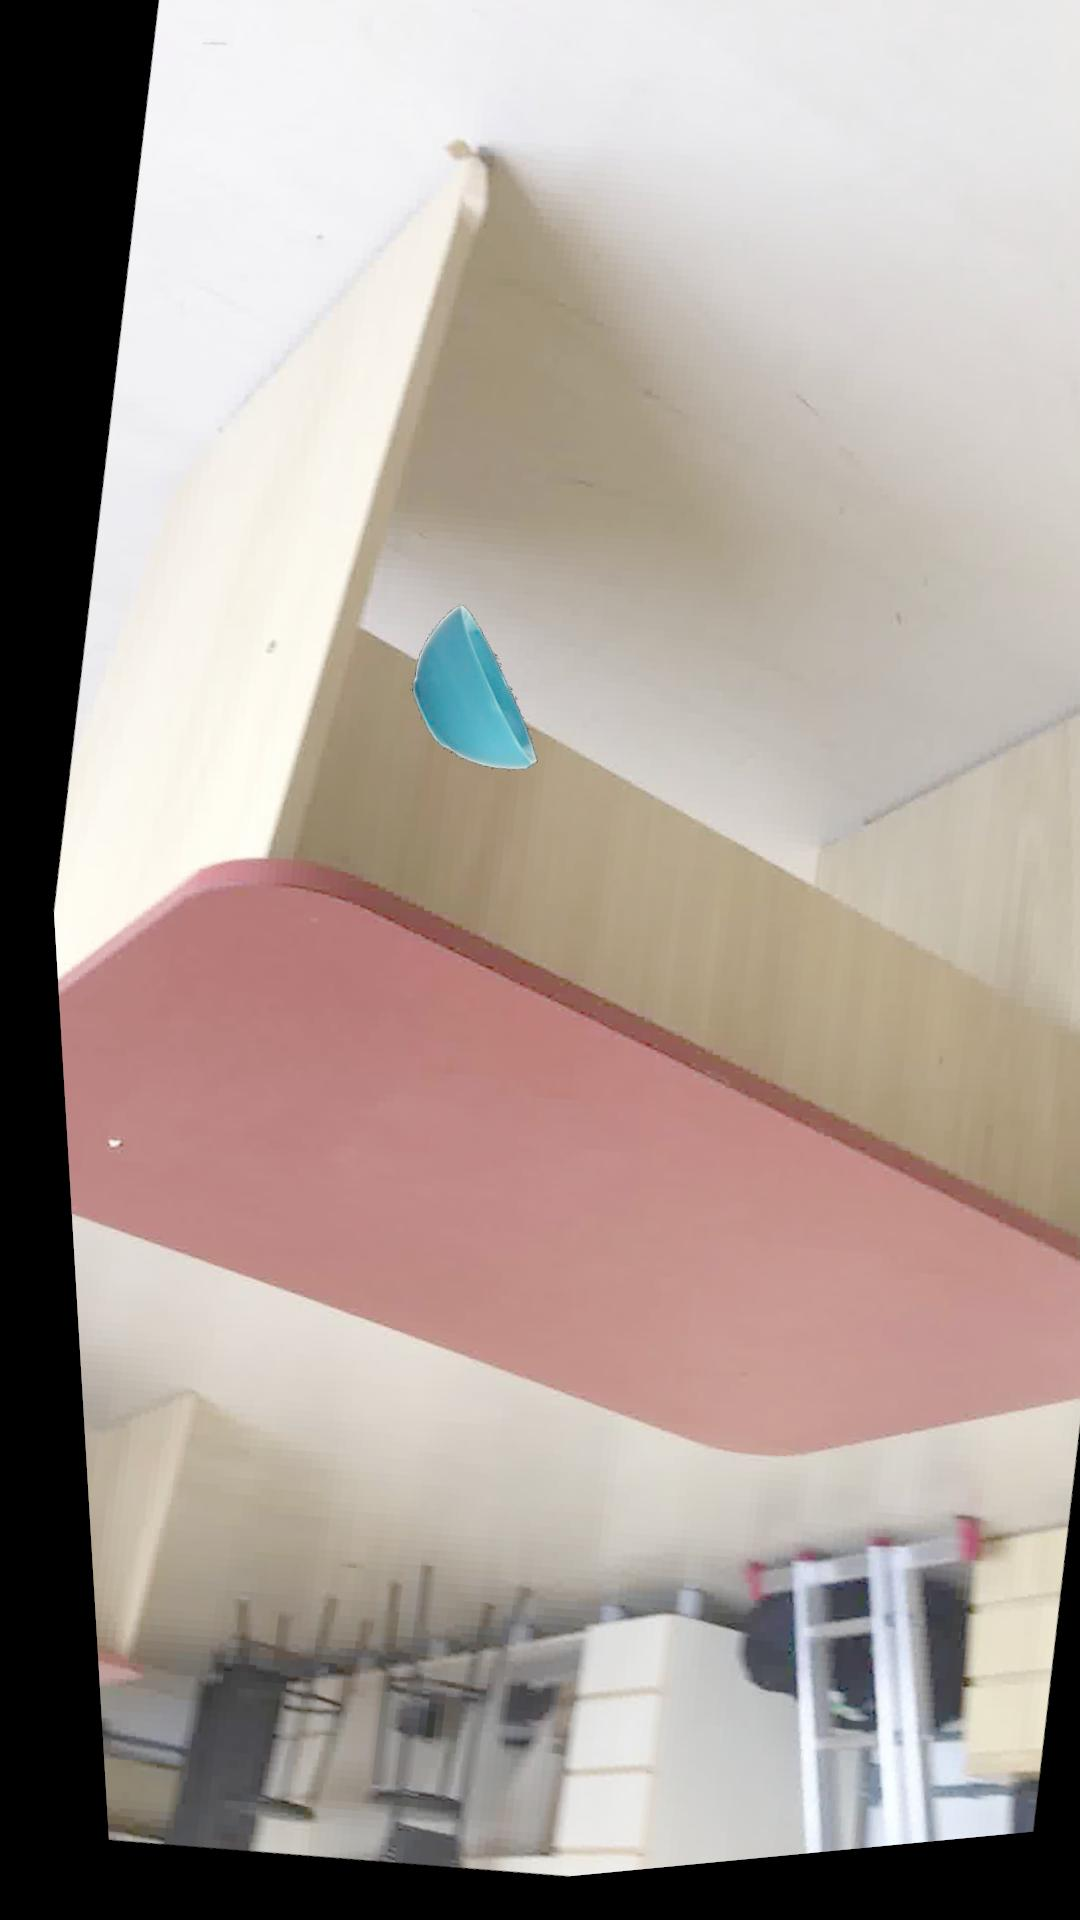bowl: (401, 615, 526, 781)
